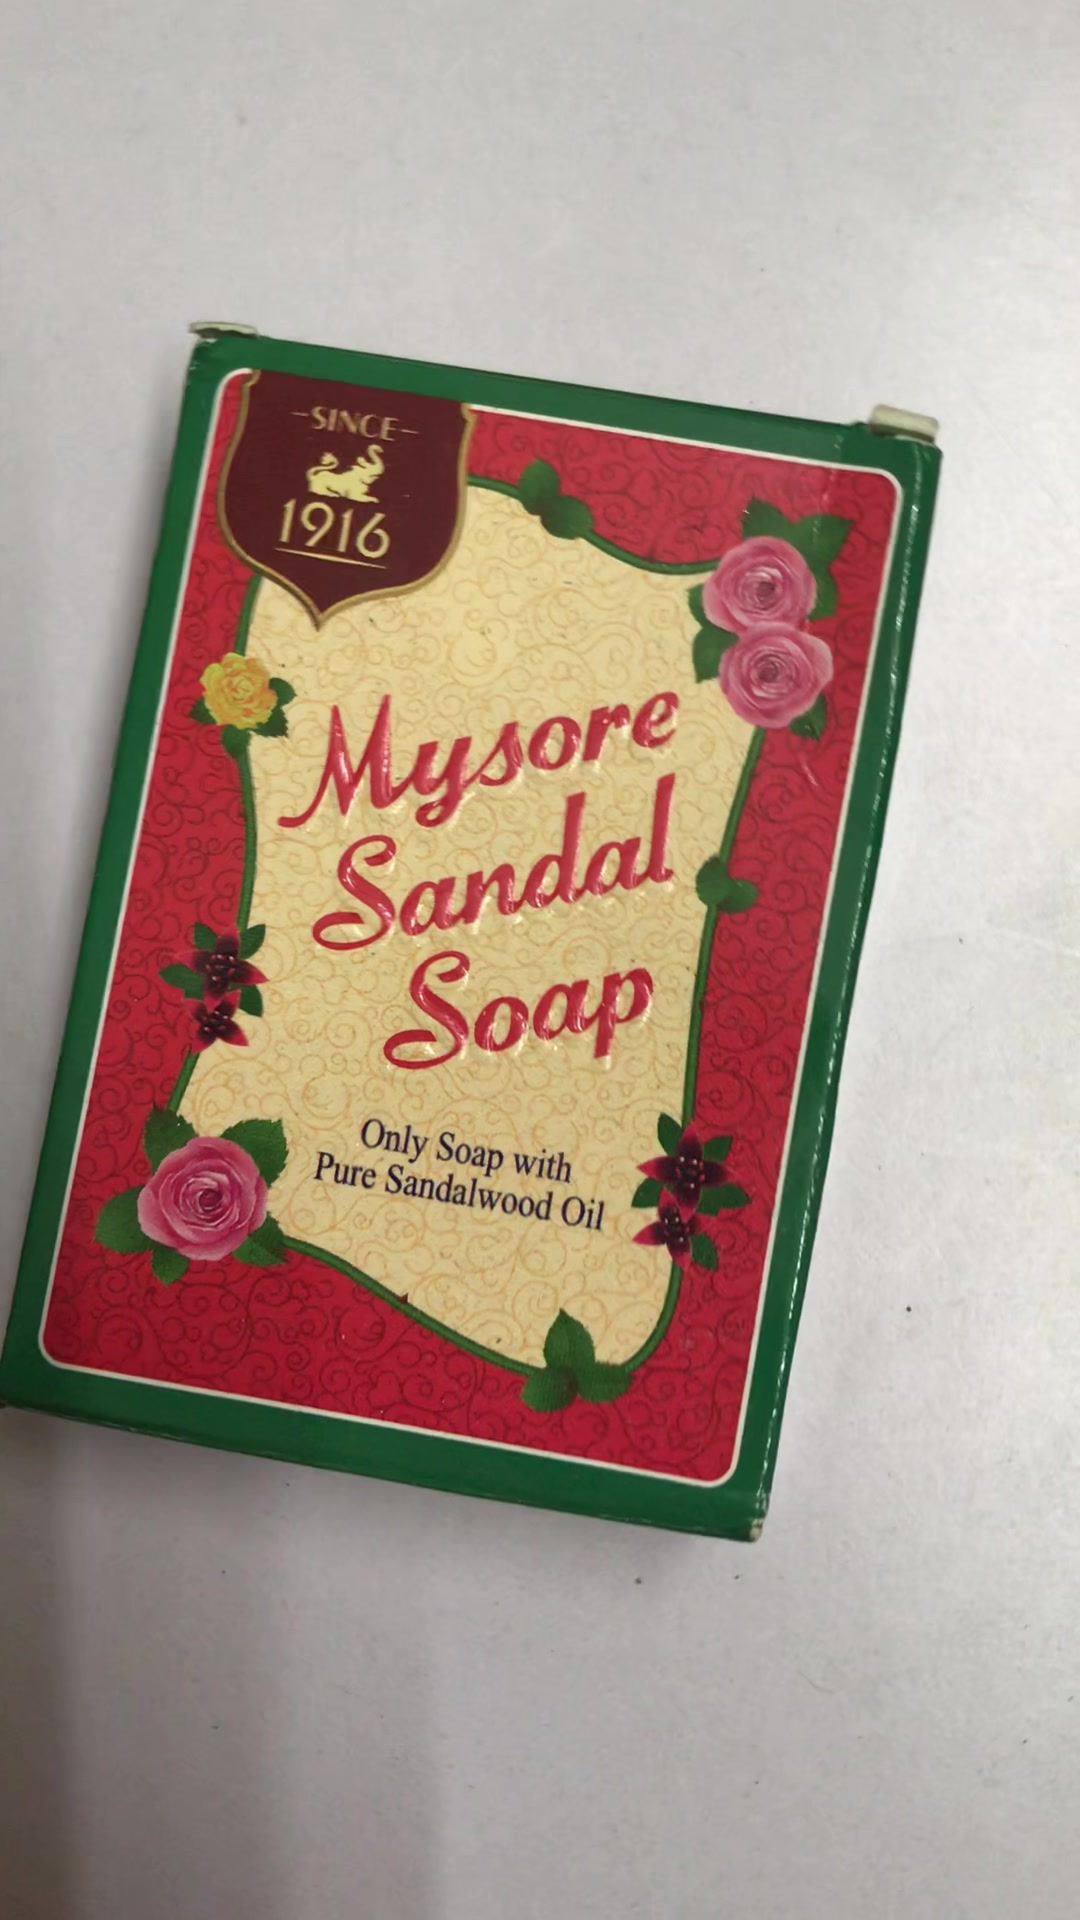mysore sandal soap: (11, 328, 938, 1544)
